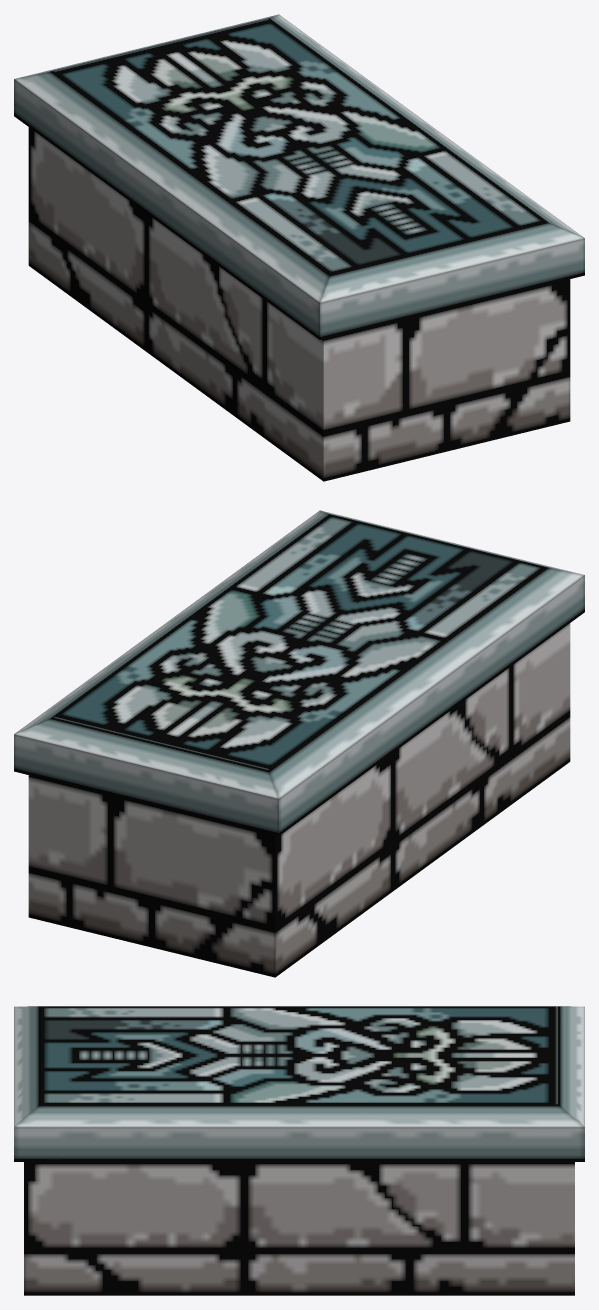
The model's file is deco_winter_tomb.FBX.
3 views of the same model, one above another, from view 1: azimuth 30°, elevation 25°; view 2: azimuth 150°, elevation 25°; view 3: azimuth 270°, elevation 25° (orthographic). The views are drawn at different scales.
Parts seen in each view (by area): view 1: deco_winter_tomb; view 2: deco_winter_tomb; view 3: deco_winter_tomb.
Boxes of the visible parts, x1=… form: deco_winter_tomb: x1=14, y1=14, x2=584, y2=481; deco_winter_tomb: x1=14, y1=510, x2=584, y2=977; deco_winter_tomb: x1=14, y1=1006, x2=584, y2=1295.
Bounding box in the file's own units: 1.5 × 1.07 × 3.
1 material, 1 textured.
